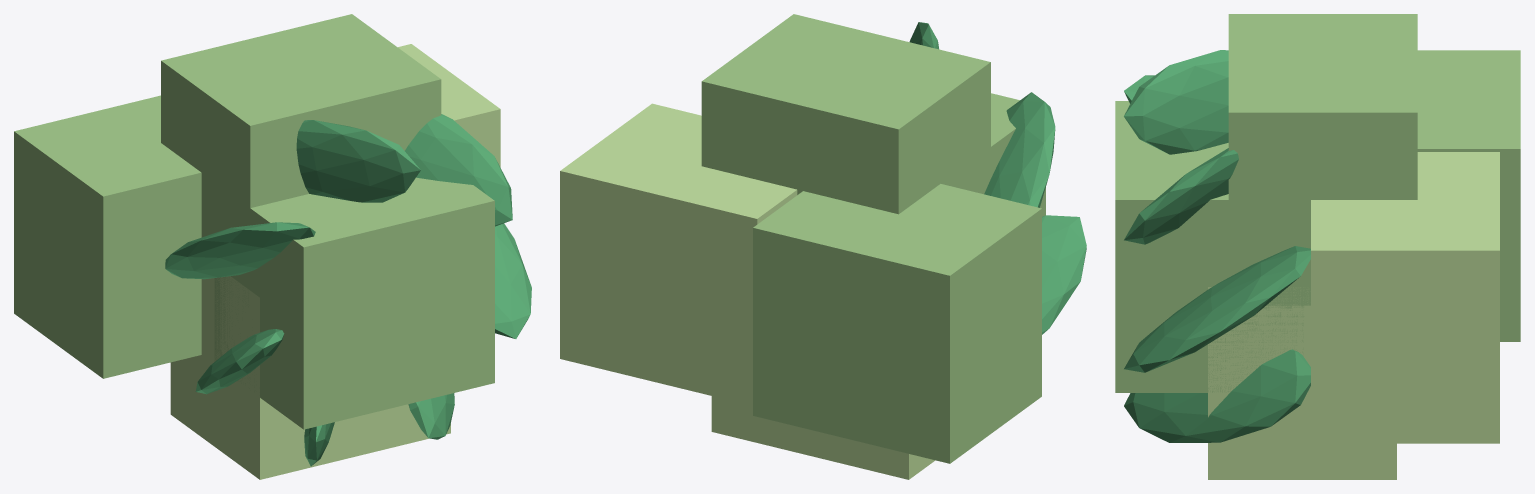
File: cragmoss-4101.glb
3 views of the same model, side by side, from view 1: azimuth 30°, elevation 25°; view 2: azimuth 150°, elevation 25°; view 3: azimuth 270°, elevation 25° (orthographic). The views are drawn at different scales.
Parts seen in each view (by area): view 1: moss4, moss0, moss2, moss3, leaf2, leaf1, leaf3, moss1, leaf0, leaf4, leaf6, leaf5; view 2: moss0, moss1, moss2, moss3, leaf3, leaf4, moss4; view 3: moss1, moss2, moss4, moss3, moss0, leaf6, leaf2, leaf0, leaf1.
Part boxes in pixels (x1,y1,x2,y2): moss4: [214, 177, 494, 429]; moss0: [14, 95, 201, 378]; moss2: [161, 14, 441, 306]; moss3: [170, 276, 450, 479]; leaf2: [296, 120, 420, 202]; leaf1: [405, 114, 512, 226]; leaf3: [165, 222, 315, 279]; moss1: [398, 44, 500, 167]; leaf0: [495, 223, 531, 338]; leaf4: [195, 329, 284, 394]; leaf6: [408, 393, 454, 439]; leaf5: [304, 422, 334, 466]; moss0: [753, 184, 1041, 463]; moss1: [560, 103, 797, 405]; moss2: [701, 14, 990, 214]; moss3: [711, 396, 935, 479]; leaf3: [984, 92, 1055, 207]; leaf4: [1042, 215, 1086, 334]; moss4: [991, 93, 1045, 216]; moss1: [1311, 152, 1499, 443]; moss2: [1228, 14, 1417, 305]; moss4: [1115, 101, 1304, 392]; moss3: [1208, 287, 1396, 479]; moss0: [1417, 50, 1520, 341]; leaf6: [1124, 349, 1310, 442]; leaf2: [1124, 50, 1228, 154]; leaf0: [1124, 246, 1310, 372]; leaf1: [1124, 148, 1238, 244].
Bounding box in the file's own units: 2.7 × 2.31 × 2.31.
